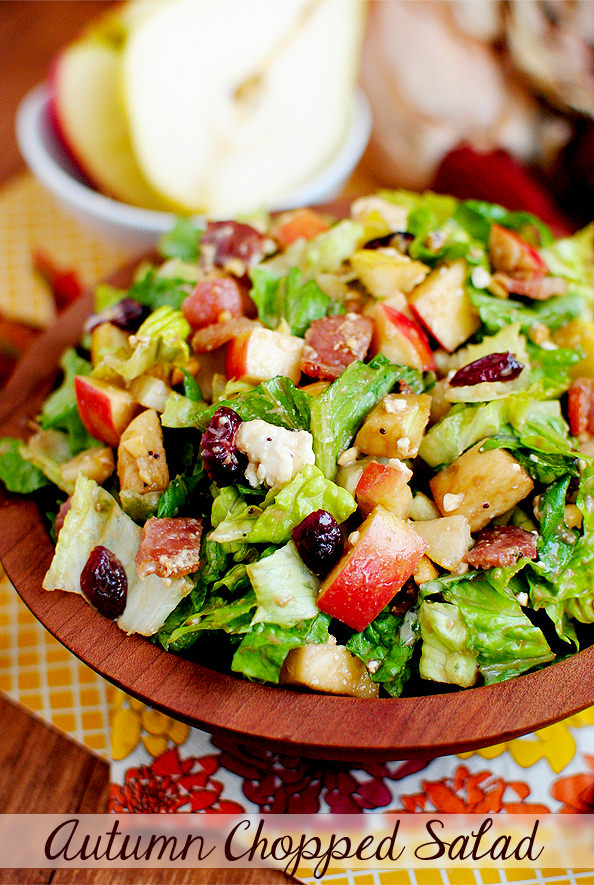chopped lettuce: (87, 283, 574, 665)
